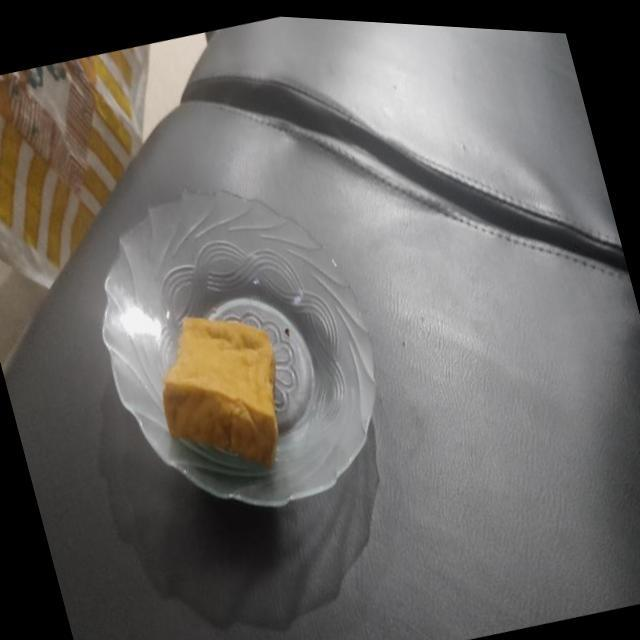tahu_goreng: (162, 316, 278, 466)
